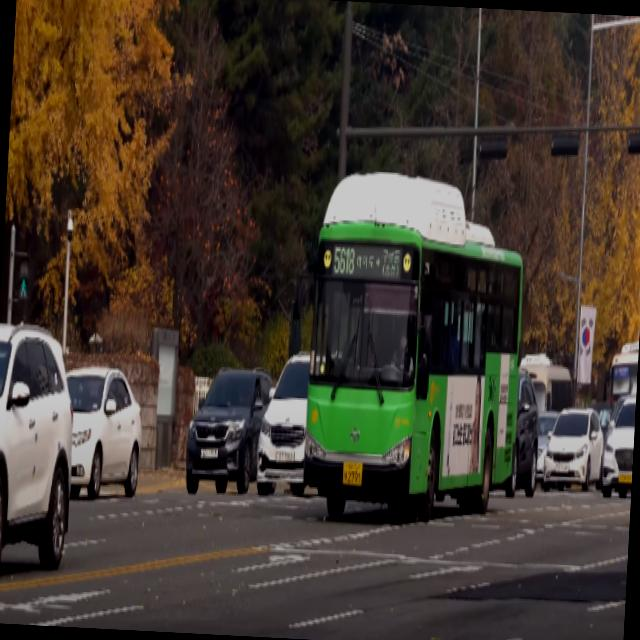bus-number: (332, 245, 357, 277)
